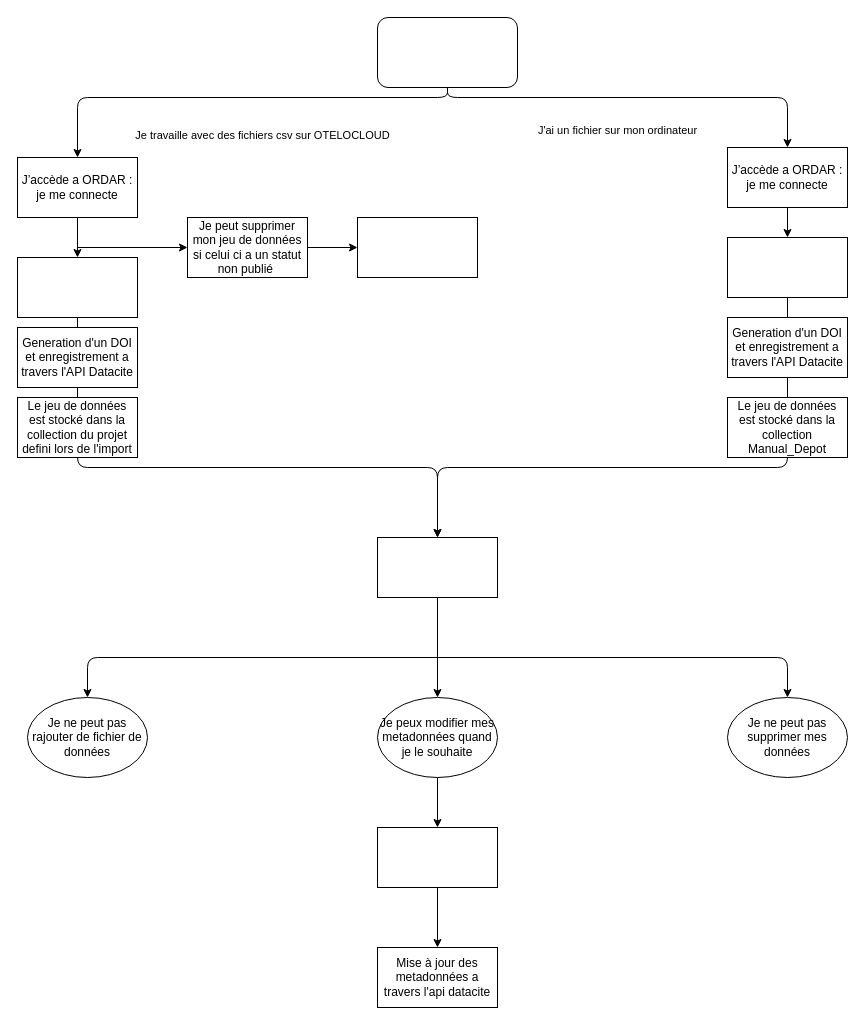
The diagram is 865 pixels wide and 1025 high, and some of its shapes have lost their labels. The centre of each missing label's shape, as x and y in pixels:
Je choisi le droit d'accées au jeu de données, et sa licence: point 77,287
Je remplis le formulaire de metadonnées et je joins mes données: point 787,267
Modification en base de données: point 437,857
Mon jeu de données est publié: point 437,567
Suppression en base de données, ainsi que du fichier source et son csv generé: point 417,247
Utilisateurs OTELO: point 447,52
